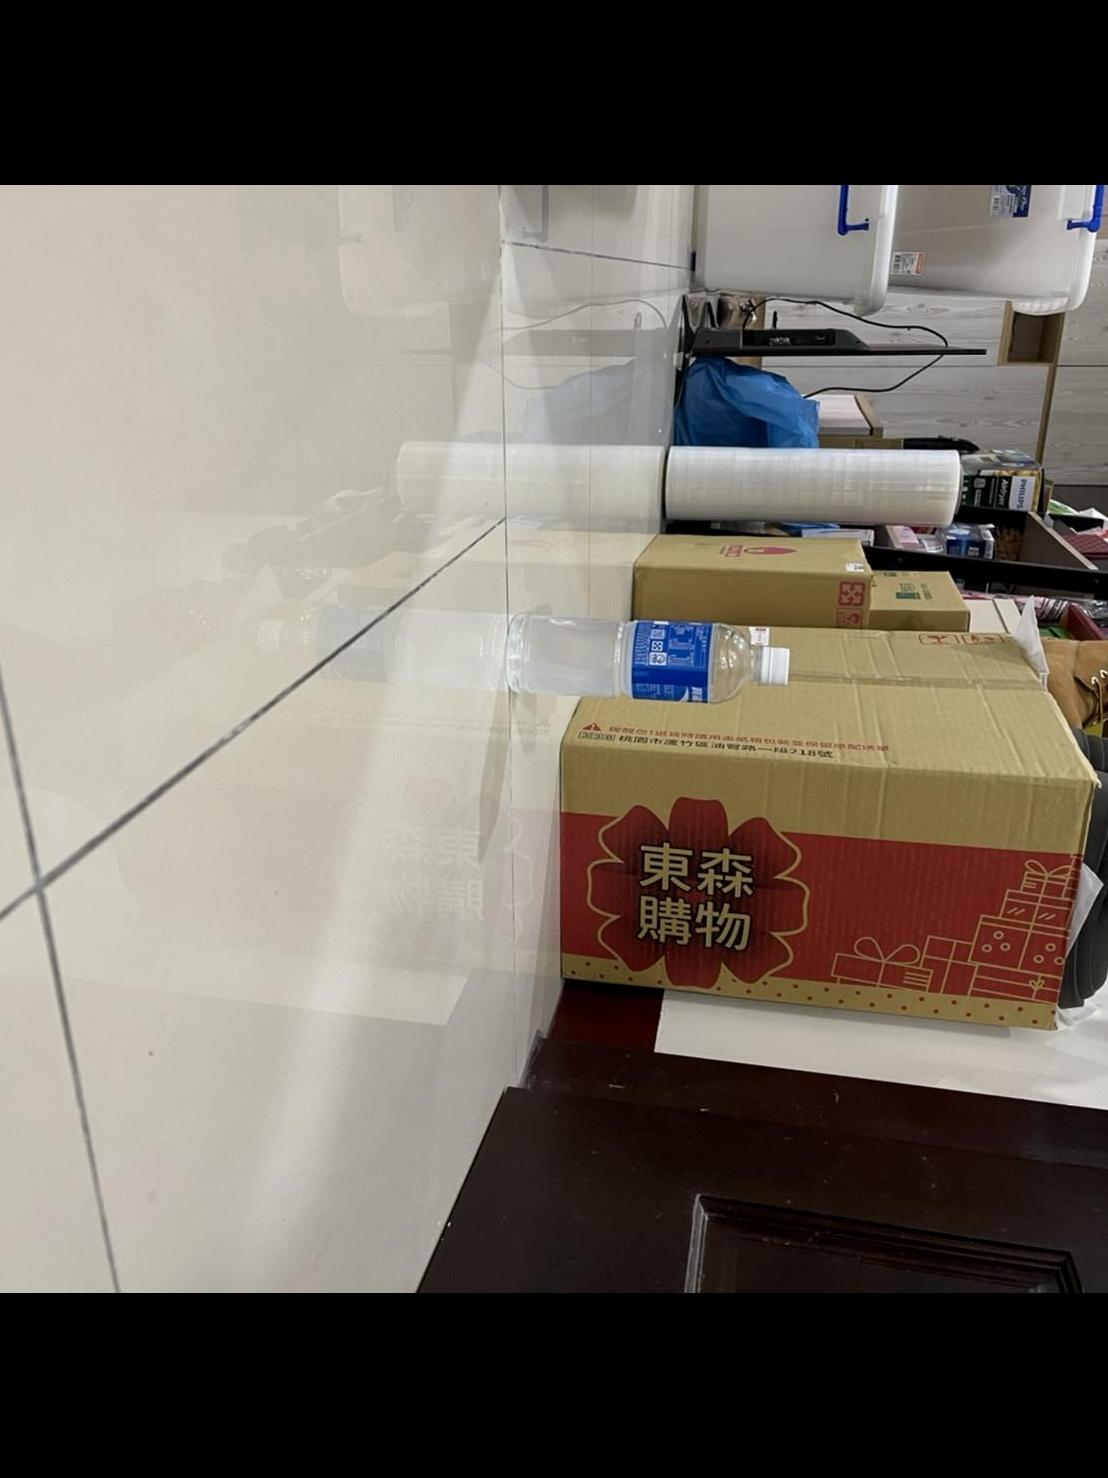bottle: (484, 601, 807, 719)
